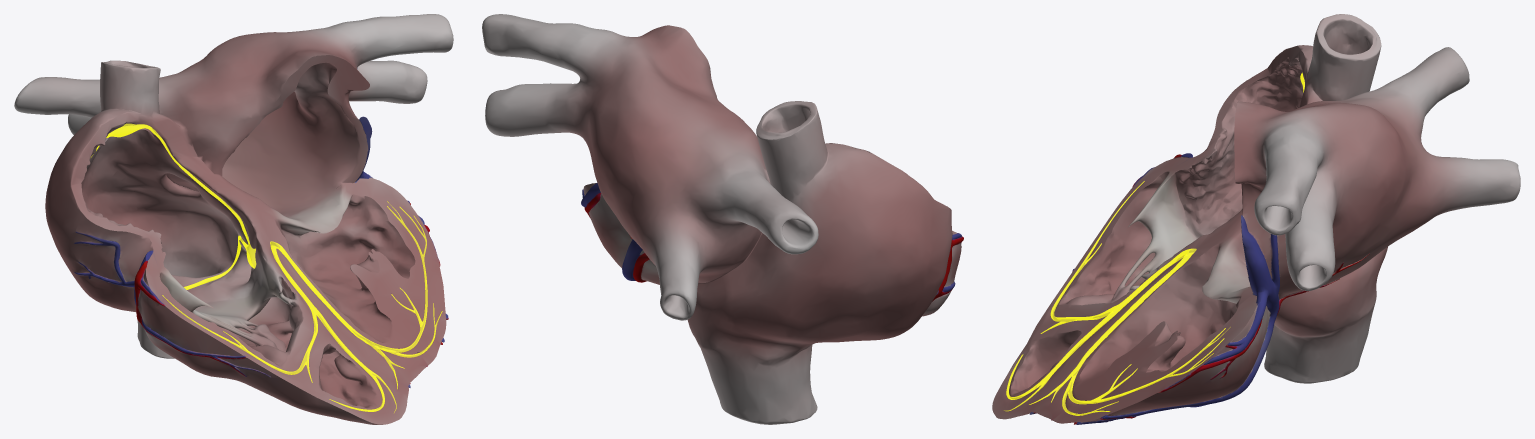
3 renders of one model, left to right at view 1: azimuth 30°, elevation 25°; view 2: azimuth 150°, elevation 25°; view 3: azimuth 270°, elevation 25°, orthographic. The views are drawn at different scales.
Parts seen in each view (by area): view 1: Default2_Default2_0, Default1_Default1_0; view 2: Default2_Default2_0; view 3: Default2_Default2_0, Default1_Default1_0.
Part boxes in pixels (left/top/right/bottom): Default2_Default2_0: left=14, top=14, right=453, bottom=424; Default1_Default1_0: left=91, top=123, right=442, bottom=412; Default2_Default2_0: left=482, top=14, right=963, bottom=424; Default2_Default2_0: left=992, top=14, right=1520, bottom=424; Default1_Default1_0: left=1004, top=72, right=1304, bottom=415.
Bounding box in the file's own units: 4.66 × 3.24 × 4.7.
